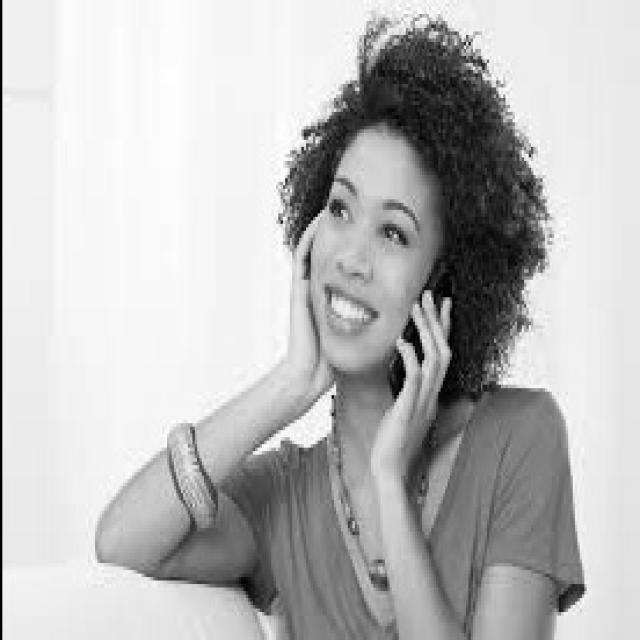phone: (359, 200, 480, 438)
